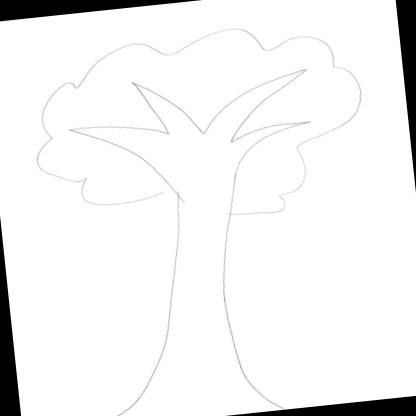branch_sharp: (61, 58, 316, 164)
crown_cloud: (19, 11, 376, 237)
trunk_straight: (154, 221, 244, 333)
